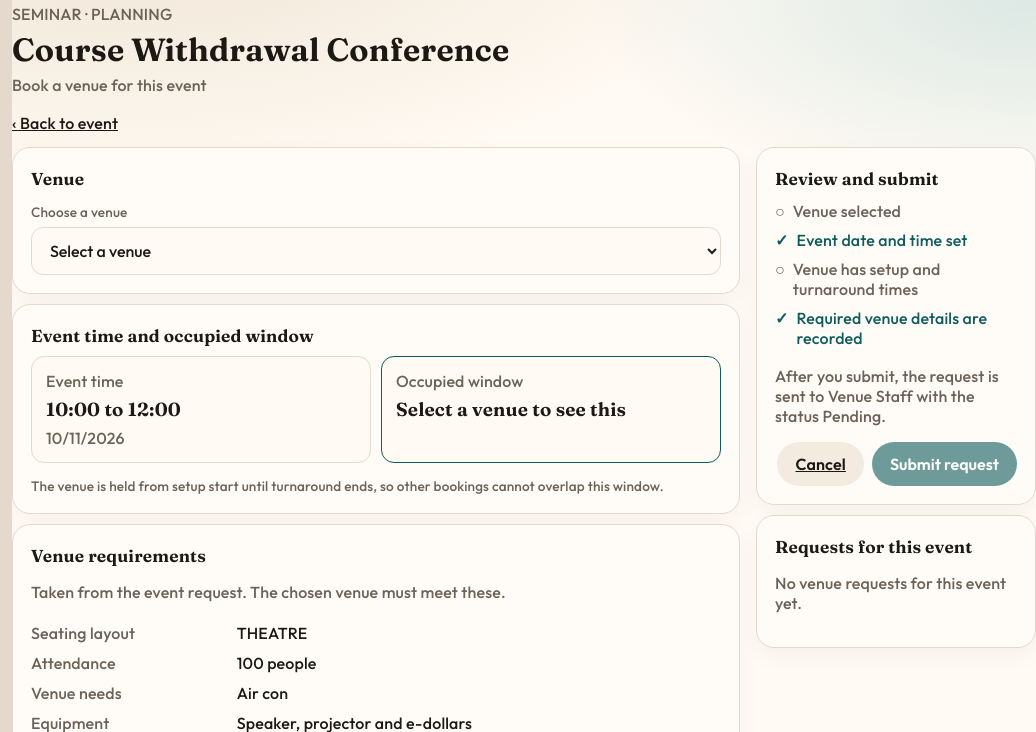
Test: shows timing and requirements, then submits a pending request for this event
The width and height of the screenshot is (1036, 732).
Expected: the heading "Course Withdrawal Conference" is shown, [12,30,509,69]
Expected: the text "Book a venue for this event" is shown, [12,75,207,95]
Select "Multi-purpose Hall B (seats 80)" in the dropdown labelled "Choose a venue" at point(376, 251), box [31,227,721,275]
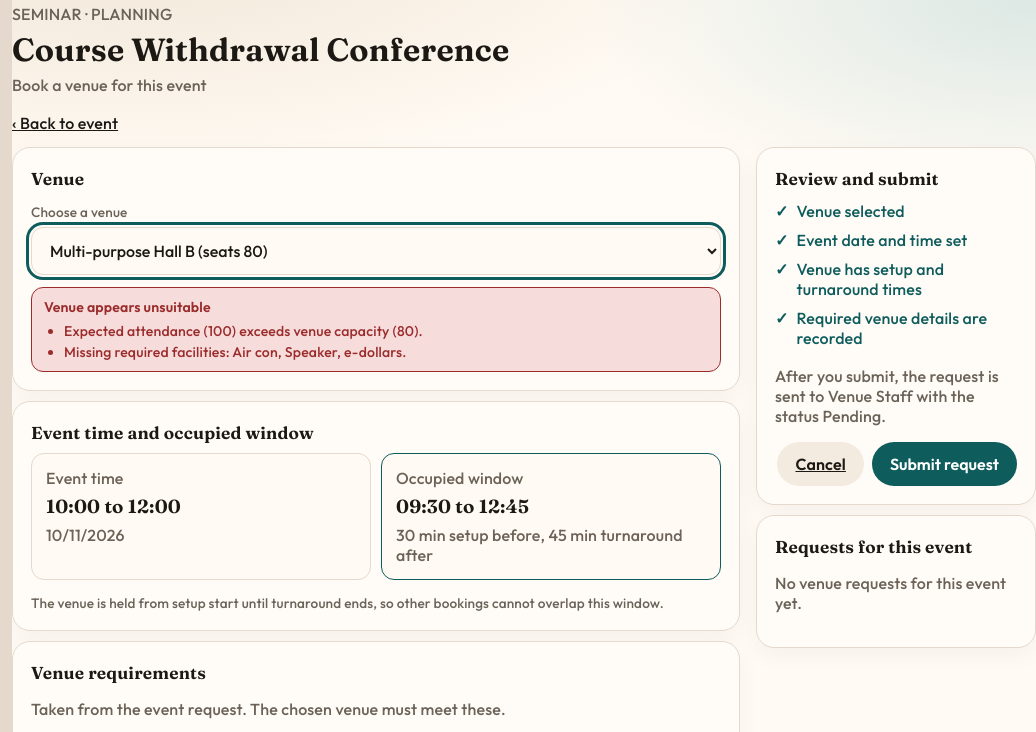
Expected: the text "30 min setup before, 45 min turnaround after" is shown, [396,525,706,565]
Expected: the list item "Expected attendance (100) exceeds venue capacity (80)." is shown, [64,322,423,340]
Expected: the button "Submit request" is enabled
Click the button "Submit request".
click(944, 464)  # box [872,442,1017,486]
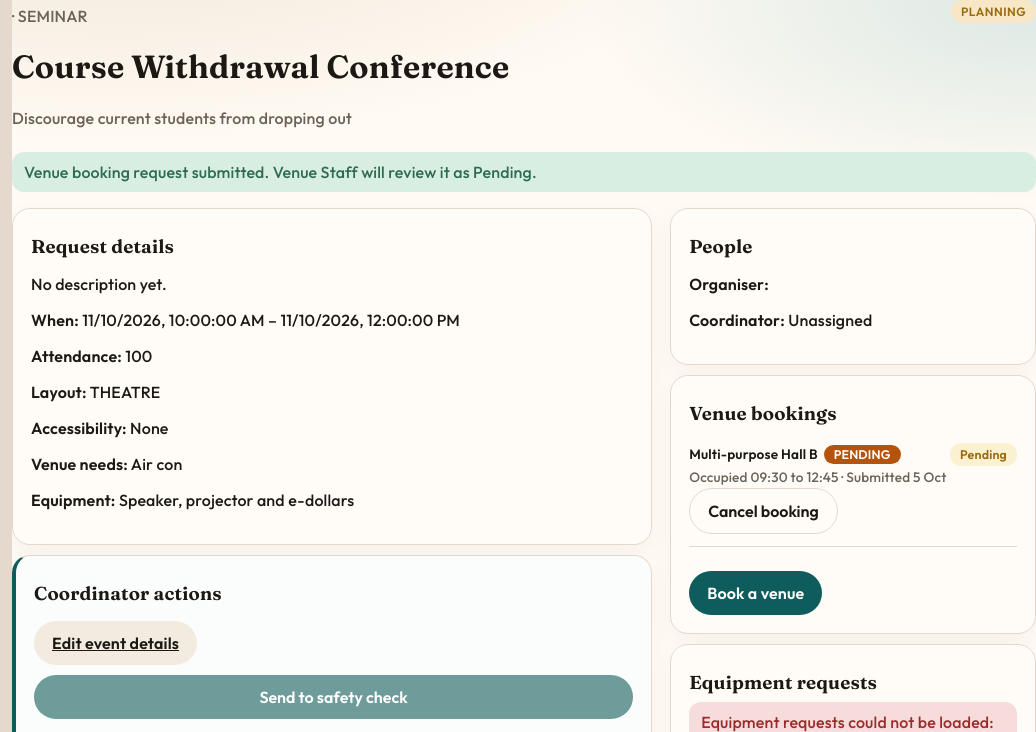
Expected: the message reads "Venue booking request submitted. Venue Staff will review it as Pending.", [24,162,537,182]
Expected: the text "Multi-purpose Hall B" is shown, [689,445,818,463]
Expected: the text "Pending" is shown, [950,443,1017,466]
